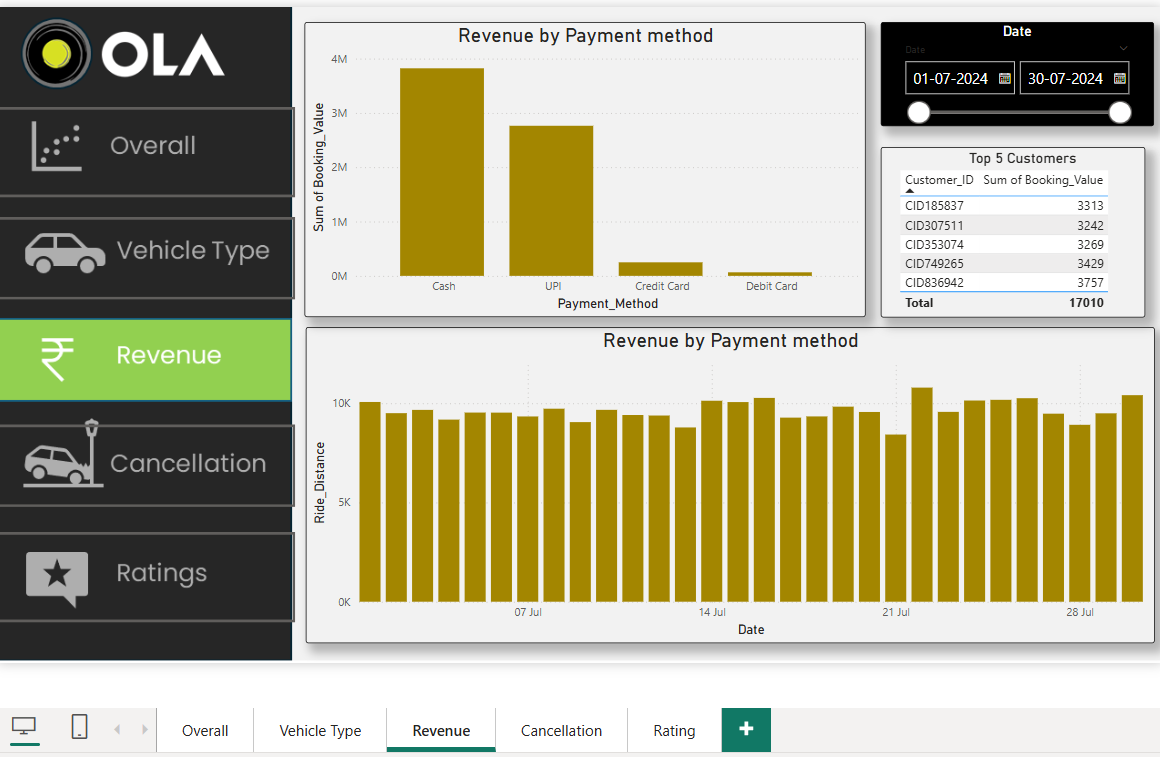

Layout of this report page (visuals, bound fields, positions):
{"tool":"powerbi","page":{"name":"Revenue","canvas":[1280,720],"ordinal":2},"visuals":[{"type":"actionButton","box":[0,230.1,327.6,90.7],"z":0},{"type":"actionButton","box":[0,458.6,327.6,90.7],"z":1000},{"type":"actionButton","box":[0,109.2,327.6,99.1],"z":2000},{"type":"actionButton","box":[0,576.2,327.6,99.1],"z":3000},{"type":"columnChart","title":"Revenue by Payment method","fields":{"Y":["Sum(Booking.Booking_Value)"],"Category":["Booking.Payment_Method"]},"box":[337.1,17.1,615.7,324.3],"z":4000},{"type":"columnChart","title":"Revenue by Payment method","fields":{"Y":["Sum(Booking.Ride_Distance)"],"Category":["Booking.Date"]},"box":[338.9,351.3,931.7,347.2],"z":5000},{"type":"slicer","title":"Date","fields":{"Values":["Booking.Date"]},"box":[970,17.1,300,114.3],"z":6000},{"type":"tableEx","title":" Top  5 Customers","fields":{"Values":["Booking.Customer_ID","Sum(Booking.Booking_Value)"]},"box":[970,154.3,290,187.1],"z":7000}]}

Visuals, with their boxes on the page's 1280x720 design canvas (x1, y1, x2, y2). These are canvas units, not pixel positions in the 1160x757 screenshot, which may show the page scaled, cropped or inside an application window:
actionButton: region(0, 230, 328, 321)
actionButton: region(0, 459, 328, 549)
actionButton: region(0, 109, 328, 208)
actionButton: region(0, 576, 328, 675)
"Revenue by Payment method" columnChart: region(337, 17, 953, 341)
"Revenue by Payment method" columnChart: region(339, 351, 1271, 698)
"Date" slicer: region(970, 17, 1270, 131)
" Top  5 Customers" tableEx: region(970, 154, 1260, 341)
